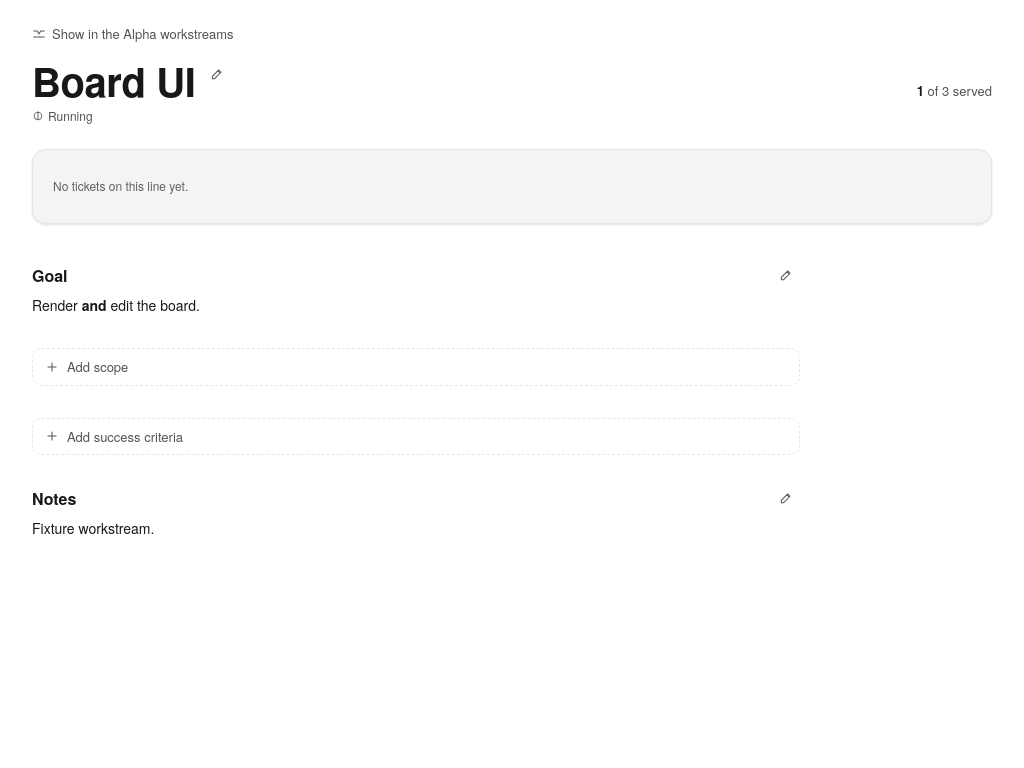
Scenario: WorkstreamPage › keeps the name open with the reason when the name is taken
Click the button named "Edit name" at [218, 74], box left=204, top=60, right=232, bottom=88
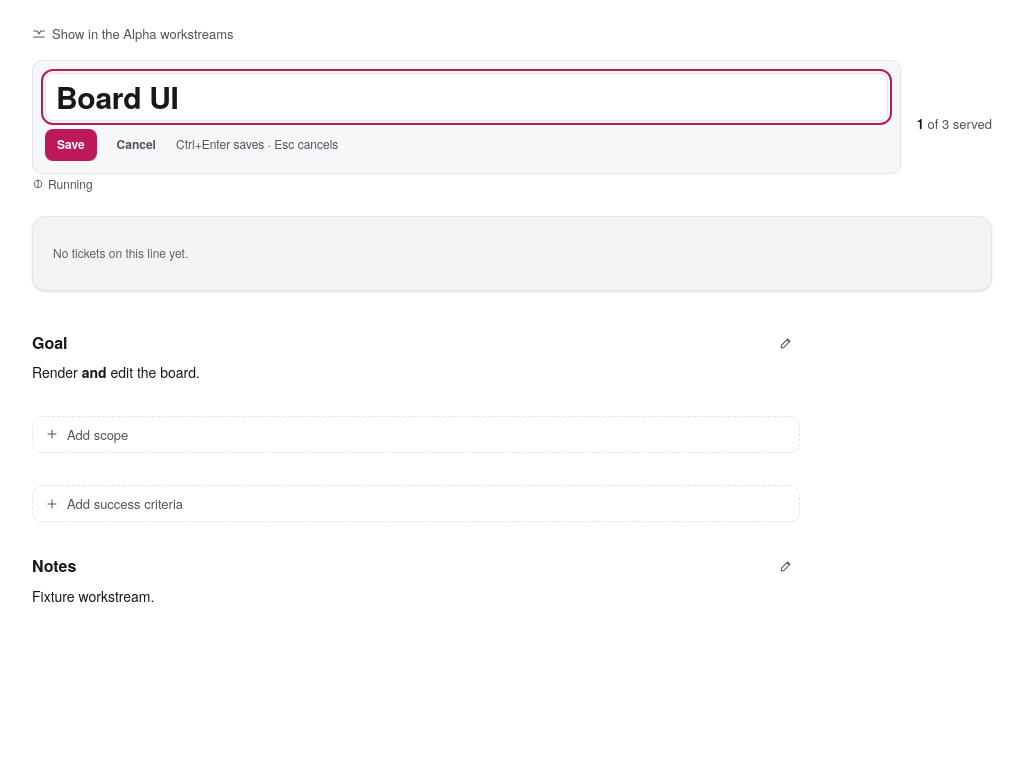
Replace the text in the field named "Name" with "Offline" at [466, 97], box left=45, top=73, right=888, bottom=120
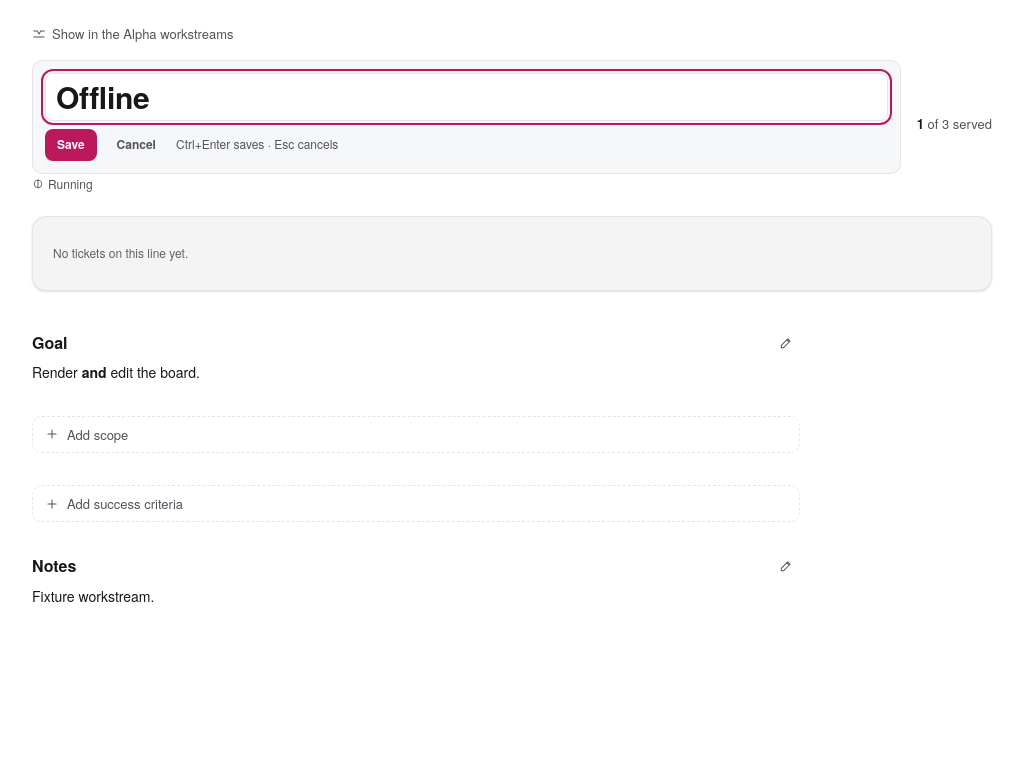
Type keys "{Control>}{Enter}{/Control}"
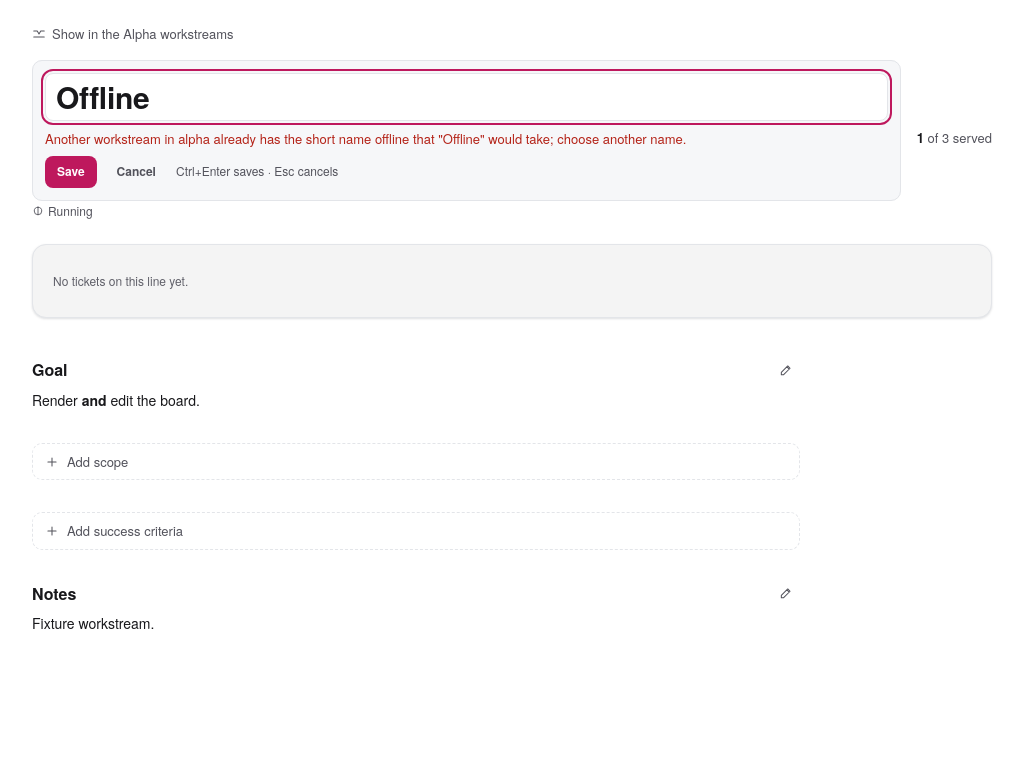
Expected: the message shows "Another workstream in alpha already has the short name offline that \"Offline\" would take; choose another name.", left=45, top=128, right=686, bottom=148
